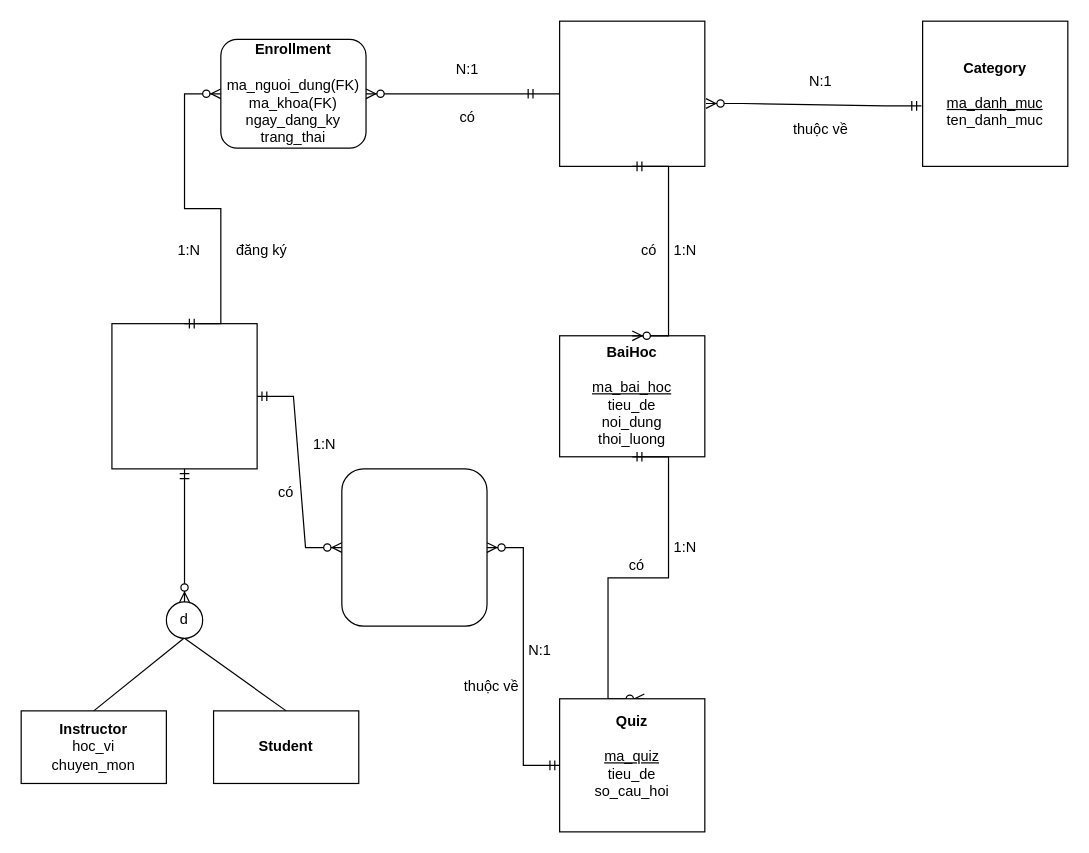
Image size: 1089x853. Some labels were removed from this diagram. The centre of each missing label's shape, as x and y in pixels:
"Course ma_khoa ten mo_ta cap_do gia ngay_phat_hanh" goes at pixel 631 93.
"Result ma_ket_qua ma_nguoi_dung(FK) ma_quiz(FK) diem ngay_lam" goes at pixel 414 547.
"User ma_nguoi_dung ho_ten email mat_khau vai_tro" goes at pixel 184 395.
